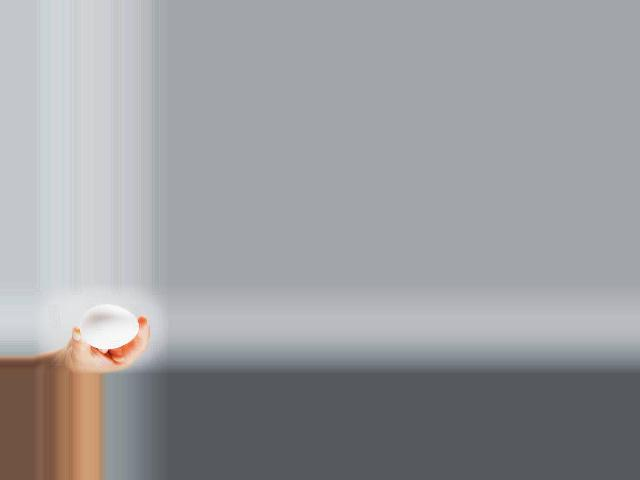egg: (80, 305, 139, 347)
